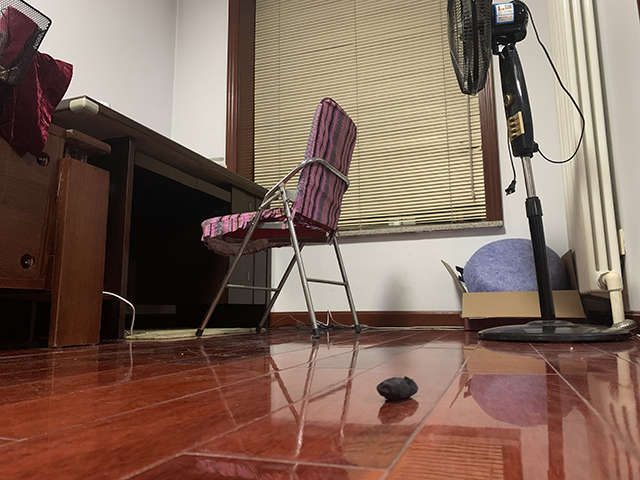carpet: (123, 327, 267, 343)
feces: (375, 375, 420, 404)
stool: (194, 97, 363, 341)
table: (52, 95, 272, 337)
wire: (269, 310, 464, 331), (102, 290, 136, 336)
